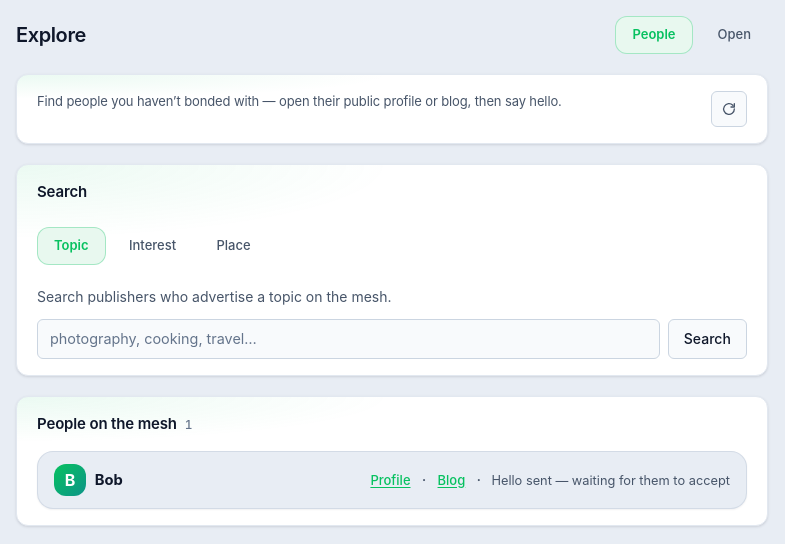
Test: BrowserView Explore modes › keeps People results when switching Open → People
The width and height of the screenshot is (785, 544).
expect the text "Bob" is shown: met, box x1=95 y1=469 x2=123 y2=491
Click the tab with test id "browser-mode-open" at (734,35), box x1=700 y1=16 x2=768 y2=54
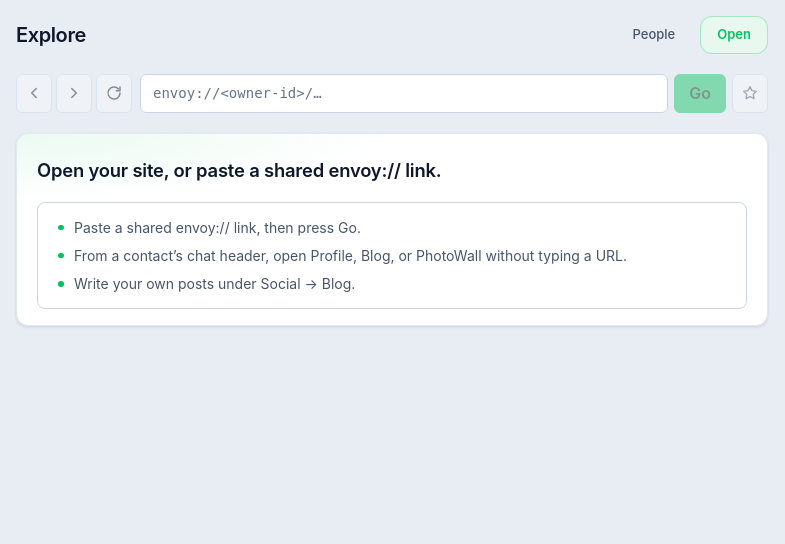
expect the field with test id "browser-address-bar" is shown: met, box x1=140 y1=74 x2=668 y2=112
Click the tab with test id "browser-mode-people" at (654,35), box x1=616 y1=16 x2=692 y2=54
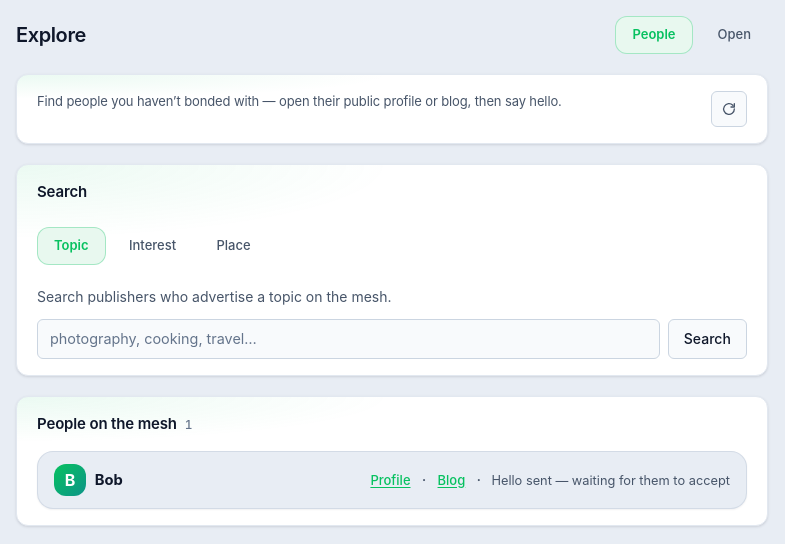
expect the text "Bob" is shown: met, box x1=95 y1=469 x2=123 y2=491
